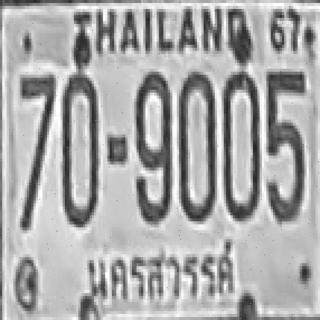N00: (60, 59, 107, 241), (219, 56, 259, 241), (178, 59, 218, 238)
N05: (265, 58, 312, 240)
N07: (9, 66, 58, 245)
N09: (123, 58, 179, 236)
P31: (74, 243, 251, 308)
